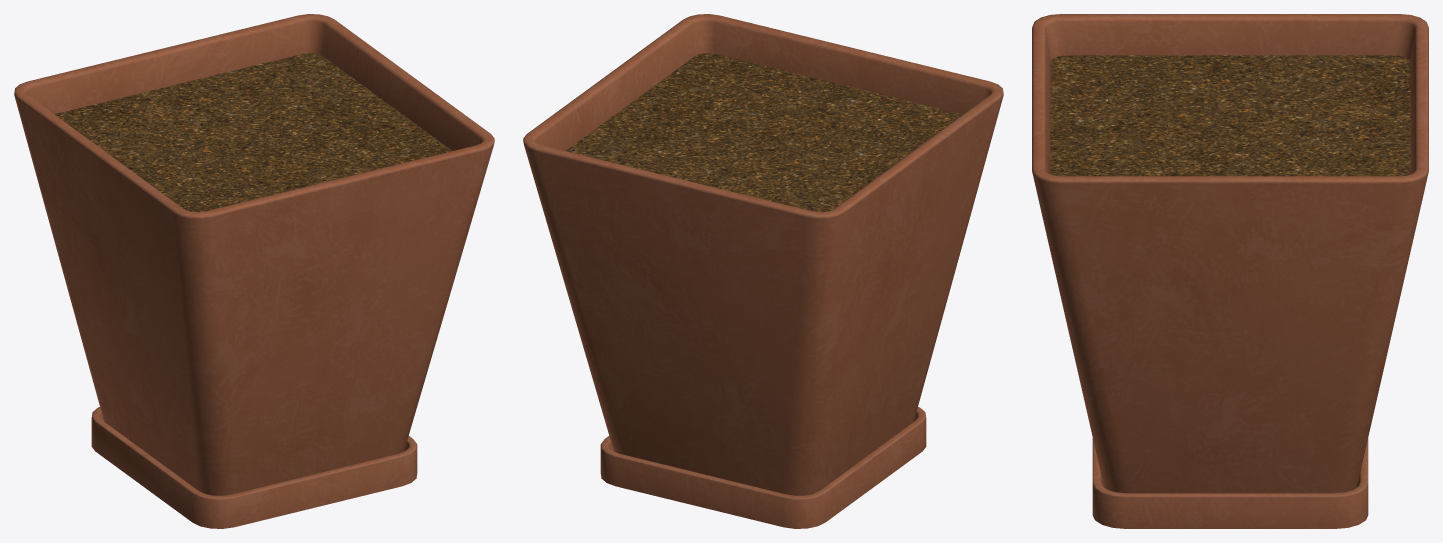
The model's file is SM_PotPlant.fbx.
3 views of the same model, side by side, from view 1: azimuth 30°, elevation 25°; view 2: azimuth 150°, elevation 25°; view 3: azimuth 270°, elevation 25° (orthographic). The views are drawn at different scales.
Parts seen in each view (by area): view 1: SM_PotPlant_LOD0; view 2: SM_PotPlant_LOD0; view 3: SM_PotPlant_LOD0.
Part boxes in pixels (x1,y1,x2,y2): SM_PotPlant_LOD0: (14, 14, 494, 528); SM_PotPlant_LOD0: (523, 14, 1003, 528); SM_PotPlant_LOD0: (1032, 14, 1428, 528).
Bounding box in the file's own units: 55.85 × 55.85 × 58.05.
